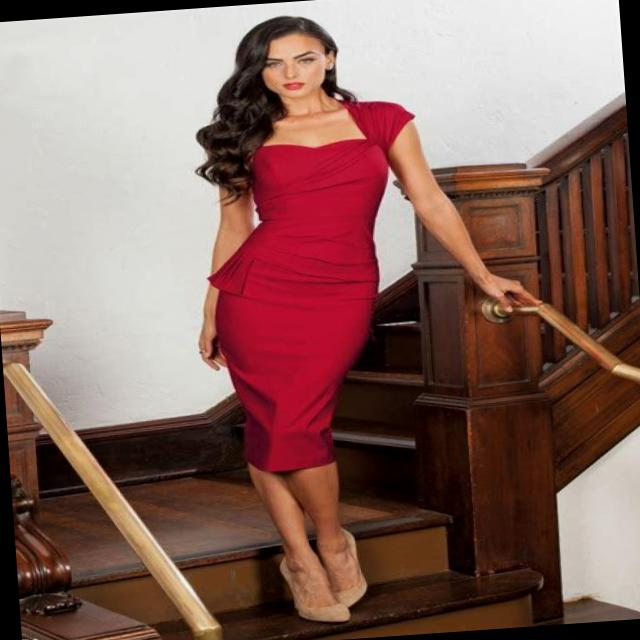dress: (198, 94, 440, 477)
